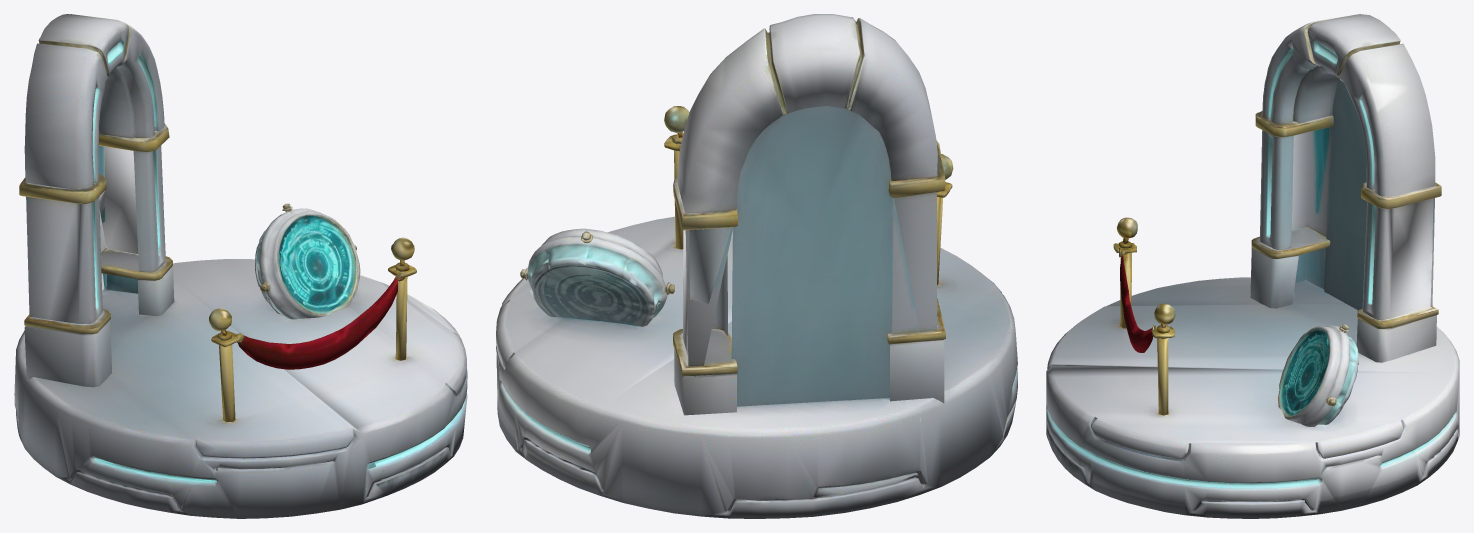
The model's file is maquina-suscripciones.glb.
3 views of the same model, side by side, from view 1: azimuth 30°, elevation 25°; view 2: azimuth 150°, elevation 25°; view 3: azimuth 270°, elevation 25° (orthographic). The views are drawn at different scales.
Visible parts, largest first — view 1: tripo_node_e03bf53b-c550-4ddb-8a5b-481d18e07d56; view 2: tripo_node_e03bf53b-c550-4ddb-8a5b-481d18e07d56; view 3: tripo_node_e03bf53b-c550-4ddb-8a5b-481d18e07d56.
Part boxes in pixels (x1=…): tripo_node_e03bf53b-c550-4ddb-8a5b-481d18e07d56: x1=14, y1=14, x2=467, y2=518; tripo_node_e03bf53b-c550-4ddb-8a5b-481d18e07d56: x1=496, y1=14, x2=1017, y2=518; tripo_node_e03bf53b-c550-4ddb-8a5b-481d18e07d56: x1=1046, y1=14, x2=1459, y2=518.
Size of the model in its own units: 1.24 by 1.2 by 1.24.
Materials: 1 (1 with a texture image).
